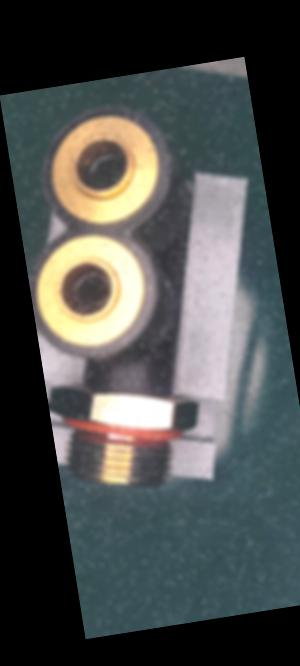off-centered: (63, 262, 116, 315)
white mark: (117, 375, 136, 388), (108, 378, 116, 389)
